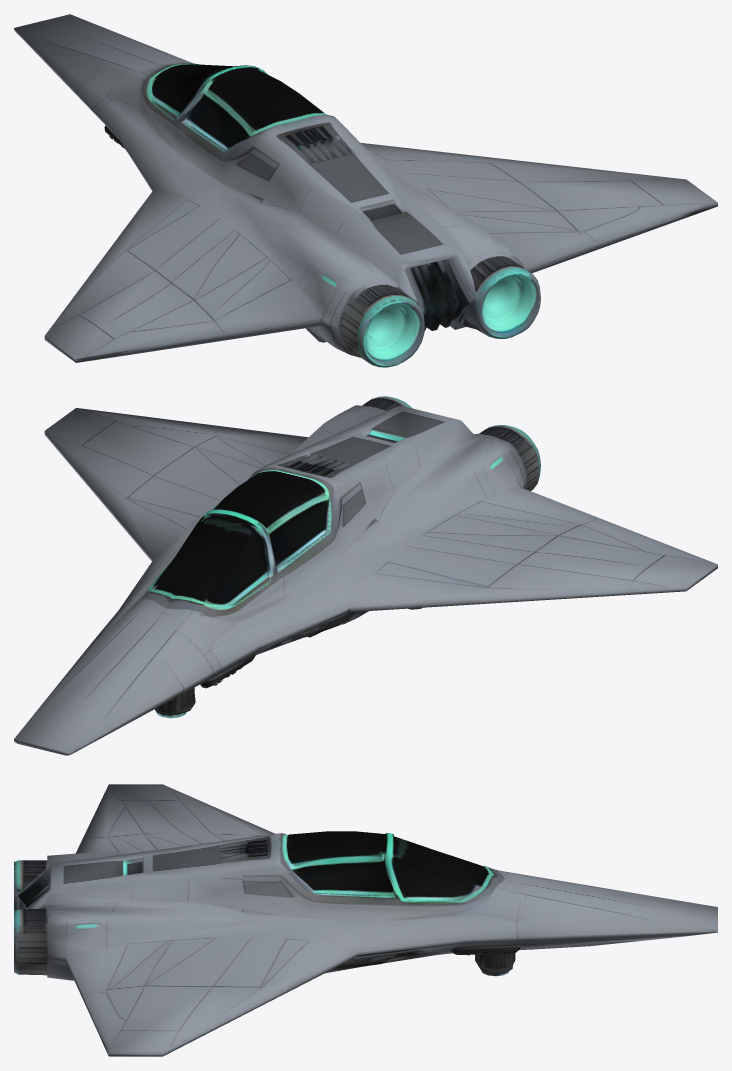
The model's file is interceptor.glb.
The picture shows the model from 3 angles, top to bottom: view 1: azimuth 30°, elevation 25°; view 2: azimuth 150°, elevation 25°; view 3: azimuth 270°, elevation 25°; orthographic projection. The views are drawn at different scales.
Parts seen in each view (by area): view 1: interceptor; view 2: interceptor; view 3: interceptor.
Boxes of the visible parts, x1,y1,x2,y2 form: interceptor: (14, 14, 717, 367); interceptor: (14, 396, 717, 755); interceptor: (14, 784, 717, 1056).
Bounding box in the file's own units: 1.72 × 0.3964 × 1.9.
1 material, 1 textured.
